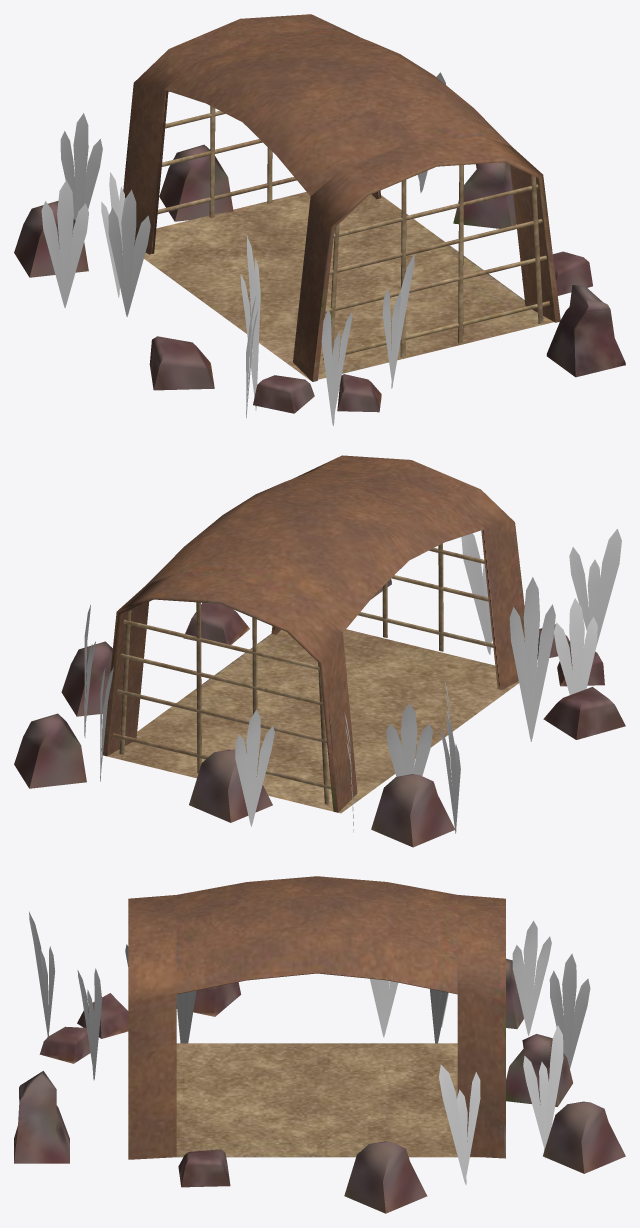
Rendered from plaineTribu.fbx.
3 renders of one model, top to bottom at view 1: azimuth 30°, elevation 25°; view 2: azimuth 150°, elevation 25°; view 3: azimuth 270°, elevation 25°, orthographic. The views are drawn at different scales.
Parts seen in each view (by area): view 1: maison_02_low.002, pCube13.003, pCube12.003, polySurface5.001, pCube12.002, pCube14.001, pCube12.004, pCube14.004, pCube14.002, polySurface11, pCube14.003, polySurface11.005 (+9 smaller); view 2: maison_02_low.002, polySurface5.001, pCube12.004, pCube12.001, pCube12.003, pCube14.001, pCube12.002, pCube14.003, polySurface11.001, polySurface5, polySurface12.001, polySurface13.001 (+10 smaller); view 3: maison_02_low.002, polySurface5, pCube12.002, pCube12.001, pCube13.003, polySurface5.001, pCube12.003, pCube14.003, pCube14.002, pCube14.004, pCube14.001, polySurface11.006 (+6 smaller).
Boxes of the visible parts, x1=… form: maison_02_low.002: x1=123, y1=14, x2=560, y2=381; pCube13.003: x1=546, y1=285, x2=625, y2=375; pCube12.003: x1=159, y1=144, x2=233, y2=221; polySurface5.001: x1=321, y1=254, x2=414, y2=426; pCube12.002: x1=453, y1=162, x2=516, y2=228; pCube14.001: x1=149, y1=336, x2=214, y2=390; pCube12.004: x1=14, y1=201, x2=88, y2=277; pCube14.004: x1=253, y1=375, x2=314, y2=413; pCube14.002: x1=337, y1=374, x2=381, y2=412; polySurface11: x1=57, y1=180, x2=73, y2=307; pCube14.003: x1=522, y1=251, x2=592, y2=295; polySurface11.005: x1=121, y1=189, x2=136, y2=316; maison_02_low.002: x1=103, y1=455, x2=524, y2=813; polySurface5.001: x1=461, y1=529, x2=621, y2=654; pCube12.004: x1=371, y1=774, x2=455, y2=847; pCube12.001: x1=14, y1=713, x2=86, y2=788; pCube12.003: x1=189, y1=749, x2=272, y2=822; pCube14.001: x1=543, y1=687, x2=625, y2=739; pCube12.002: x1=61, y1=641, x2=112, y2=716; pCube14.003: x1=183, y1=602, x2=249, y2=644; polySurface11.001: x1=523, y1=577, x2=539, y2=726; polySurface5: x1=84, y1=604, x2=113, y2=781; polySurface12.001: x1=530, y1=604, x2=555, y2=741; polySurface13.001: x1=509, y1=607, x2=531, y2=741; maison_02_low.002: x1=128, y1=876, x2=505, y2=1159; polySurface5: x1=439, y1=1025, x2=563, y2=1185; pCube12.002: x1=344, y1=1141, x2=427, y2=1213; pCube12.001: x1=543, y1=1101, x2=625, y2=1173; pCube13.003: x1=14, y1=1071, x2=69, y2=1161; polySurface5.001: x1=29, y1=911, x2=102, y2=1080; pCube12.003: x1=506, y1=1034, x2=572, y2=1106; pCube14.003: x1=178, y1=1149, x2=230, y2=1187; pCube14.002: x1=39, y1=1026, x2=90, y2=1063; pCube14.004: x1=77, y1=993, x2=128, y2=1038; pCube14.001: x1=176, y1=982, x2=240, y2=1016; polySurface11.006: x1=562, y1=953, x2=576, y2=1065.
Bounding box in the file's own units: 8.77 × 4.43 × 10.13.
